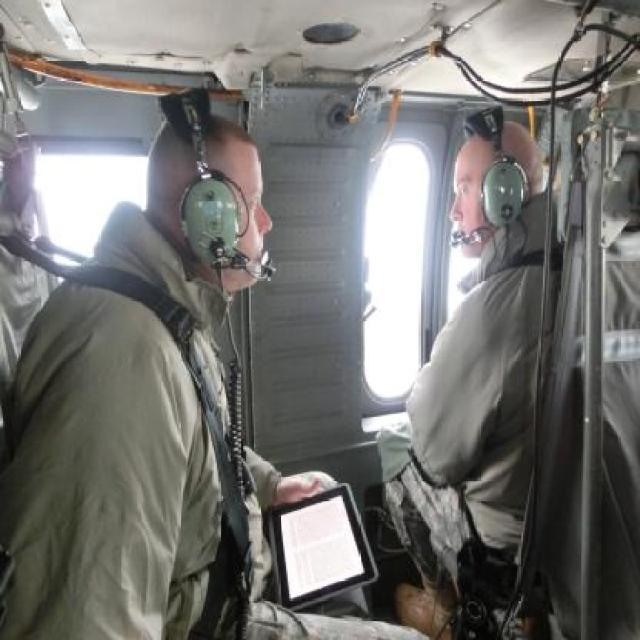earphone: (143, 73, 260, 270), (455, 90, 552, 247)
tablet: (272, 473, 385, 630)
